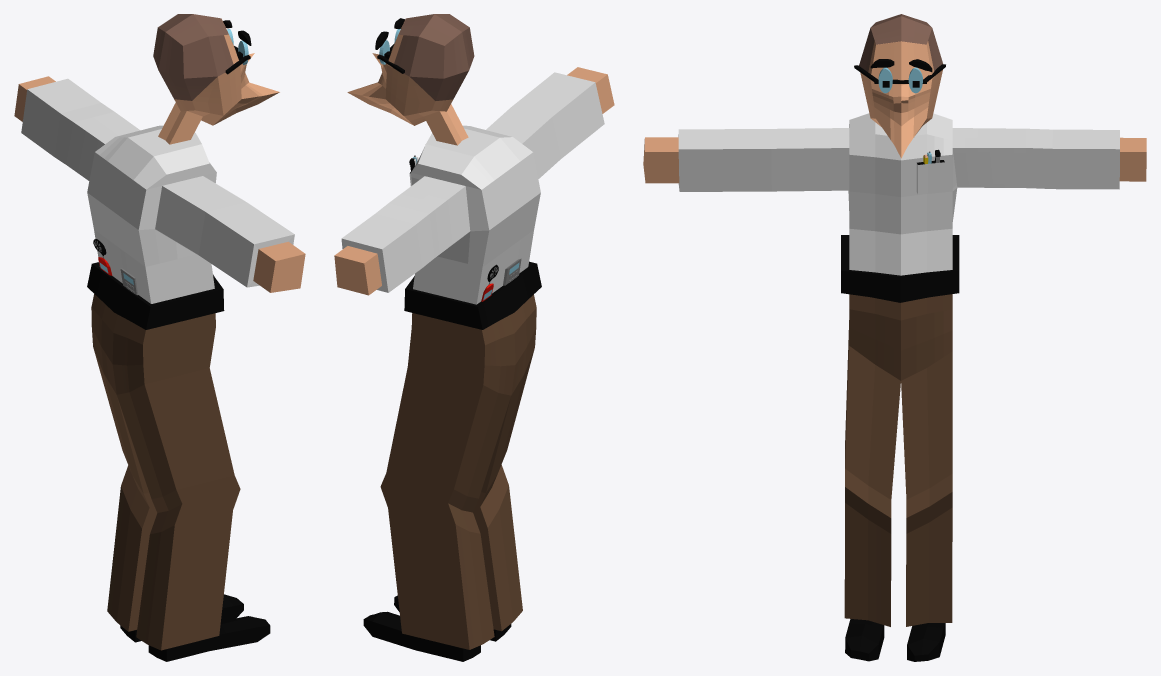
The model's file is personaje.fbx.
3 views of the same model, side by side, from view 1: azimuth 30°, elevation 25°; view 2: azimuth 150°, elevation 25°; view 3: azimuth 270°, elevation 25° (orthographic).
Visible parts, largest first — view 1: OjoI; view 2: OjoI; view 3: OjoI.
Part boxes in pixels (box(x1,y1,x2,y2)): OjoI: box(14, 14, 305, 661); OjoI: box(334, 14, 614, 661); OjoI: box(643, 14, 1146, 661).
Size of the model in its own units: 152 by 536 by 393.
